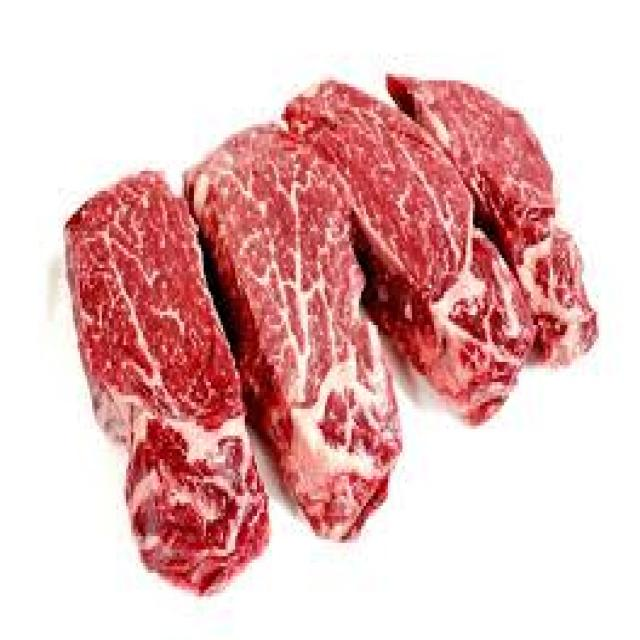Beef: (187, 124, 402, 538), (65, 171, 269, 595), (290, 80, 536, 424), (390, 72, 599, 364)
